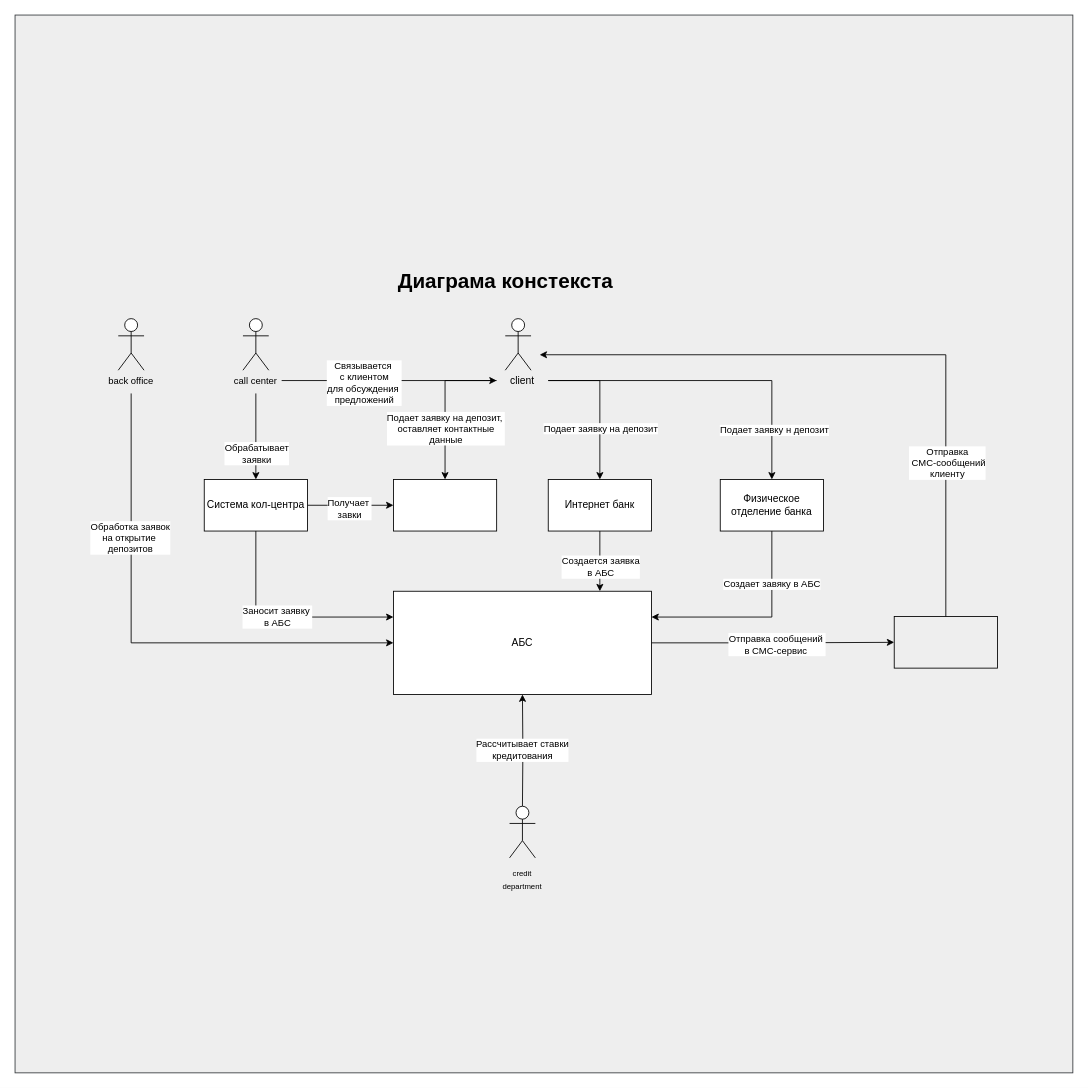
This 1088x1088 diagram has some shape labels left out. The shapes that lost their labels are listed below. From the top down, each one's centre as x and y in pixels, then its label:
point 445,505: Сайт банка
point 945,642: SMS gateway
